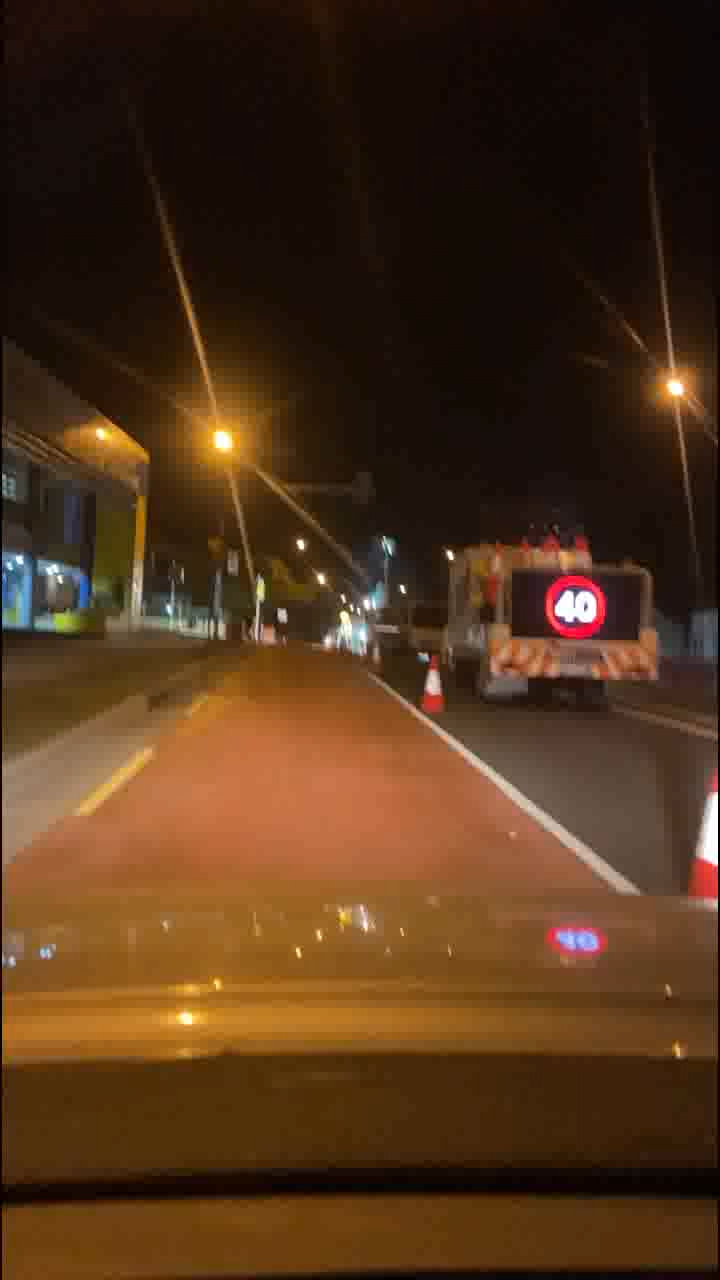road cone: (414, 652, 449, 719)
truck: (435, 519, 677, 707)
